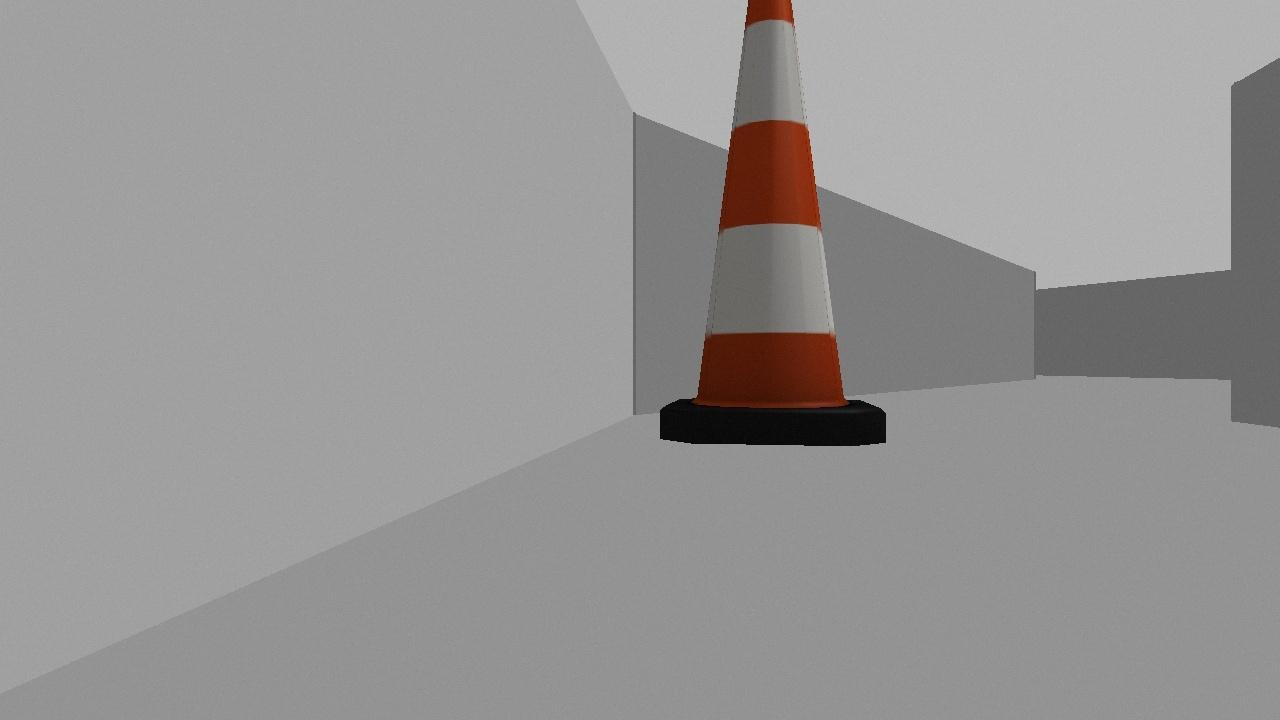cone_barrel: (622, 0, 897, 463)
